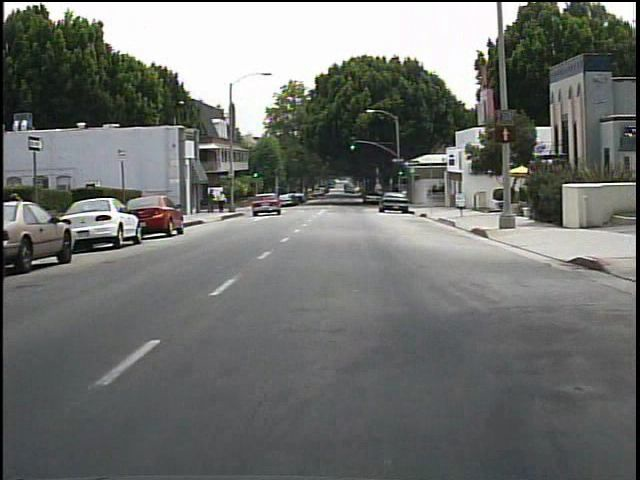person: (206, 189, 218, 215), (217, 189, 229, 213)
